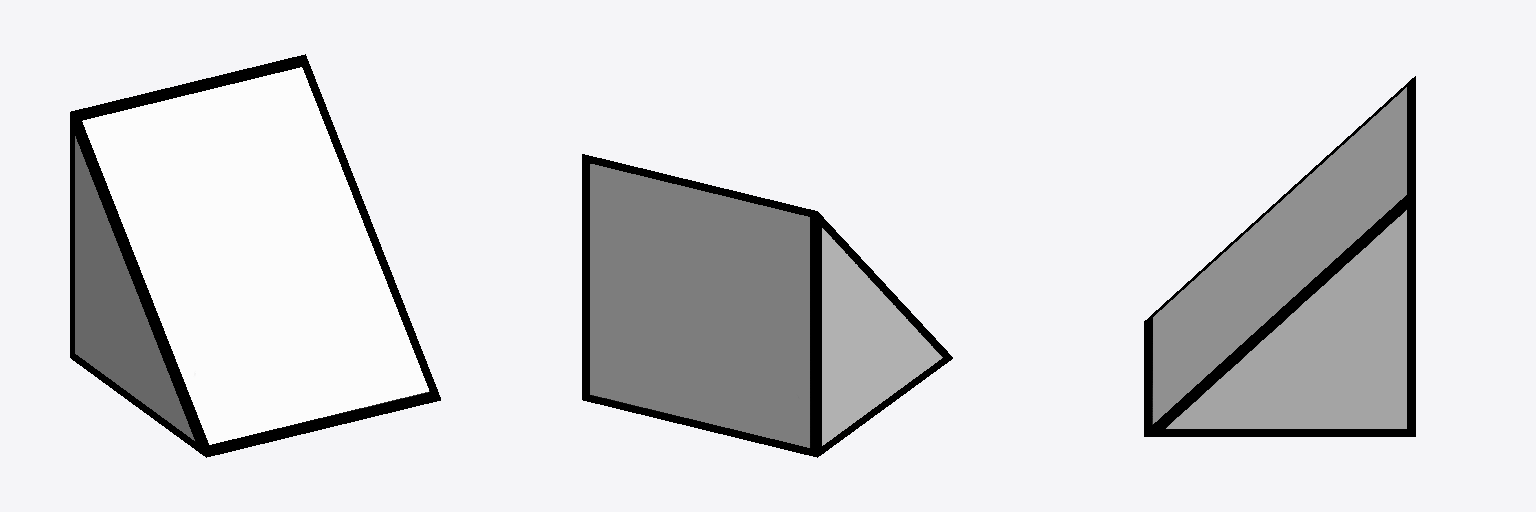
The picture shows the model from 3 angles: view 1: azimuth 30°, elevation 25°; view 2: azimuth 150°, elevation 25°; view 3: azimuth 270°, elevation 25°; orthographic projection.
Parts seen in each view (by area): view 1: Cube; view 2: Cube; view 3: Cube.
Boxes of the visible parts, x1=… form: Cube: x1=70, y1=54, x2=440, y2=457; Cube: x1=582, y1=154, x2=952, y2=457; Cube: x1=1144, y1=76, x2=1415, y2=436.
Bounding box in the file's own units: 1 × 1 × 1.
1 materials, 1 textured.